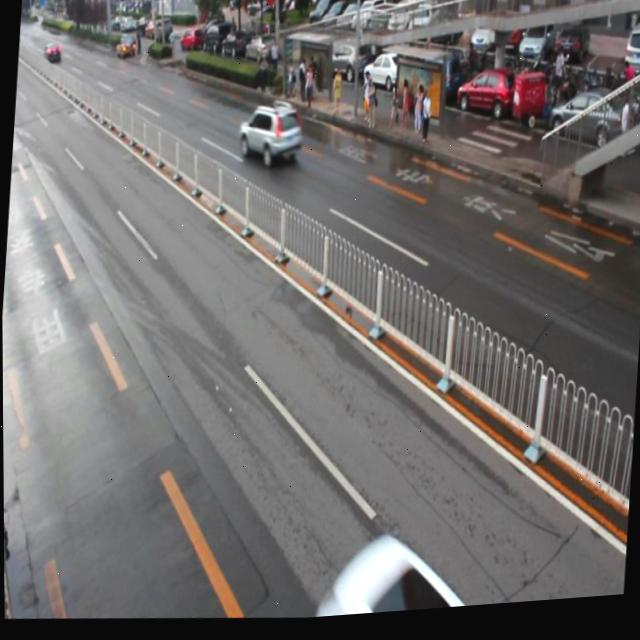car: (234, 100, 304, 176)
